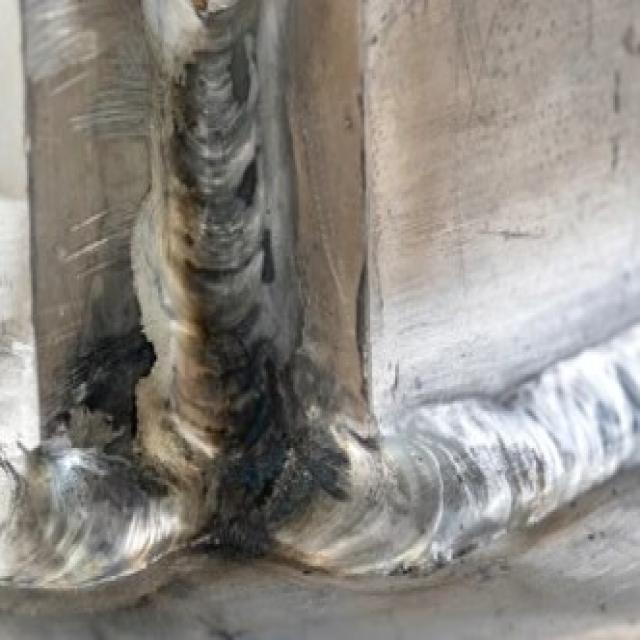Bad Weld: (57, 14, 336, 574)
